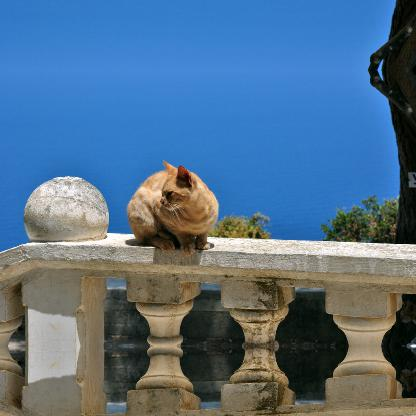Cat: (124, 156, 218, 256)
